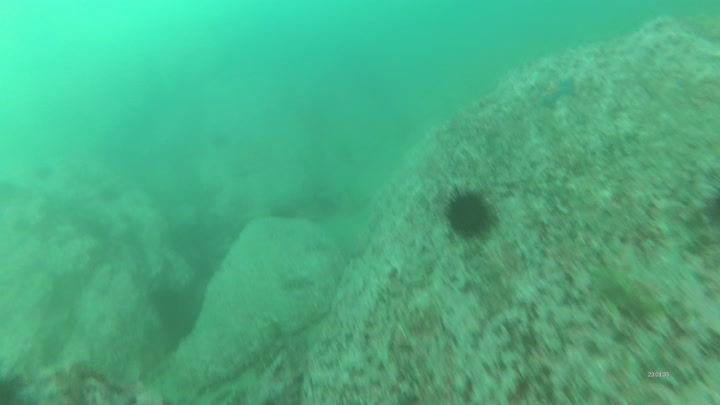echinus: (438, 184, 501, 241)
holothurian: (585, 266, 659, 322), (278, 273, 313, 293)
starfish: (534, 73, 579, 110)
